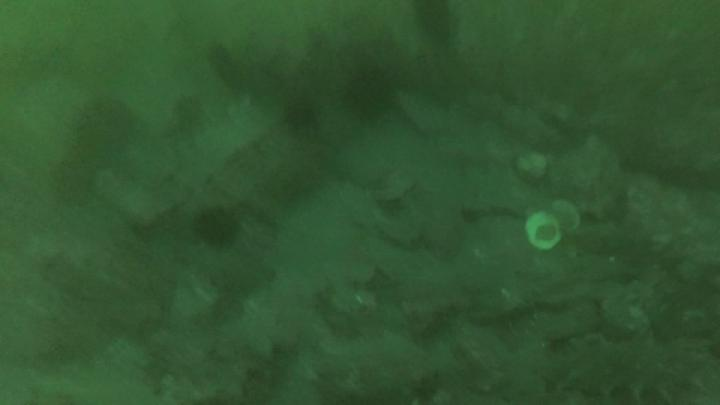echinus: (77, 105, 136, 157), (350, 75, 395, 121), (198, 209, 239, 250), (412, 3, 455, 42), (285, 97, 319, 131)
holothurian: (538, 340, 682, 404)
